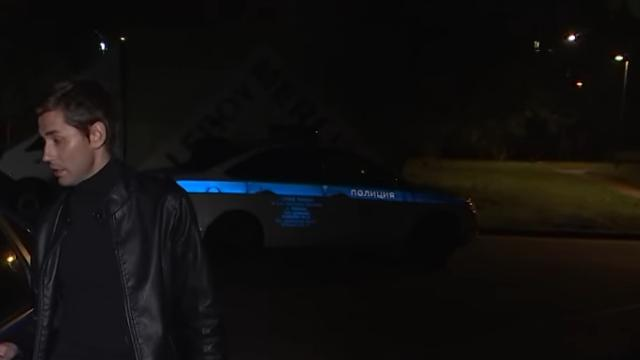police car: (133, 126, 482, 273)
